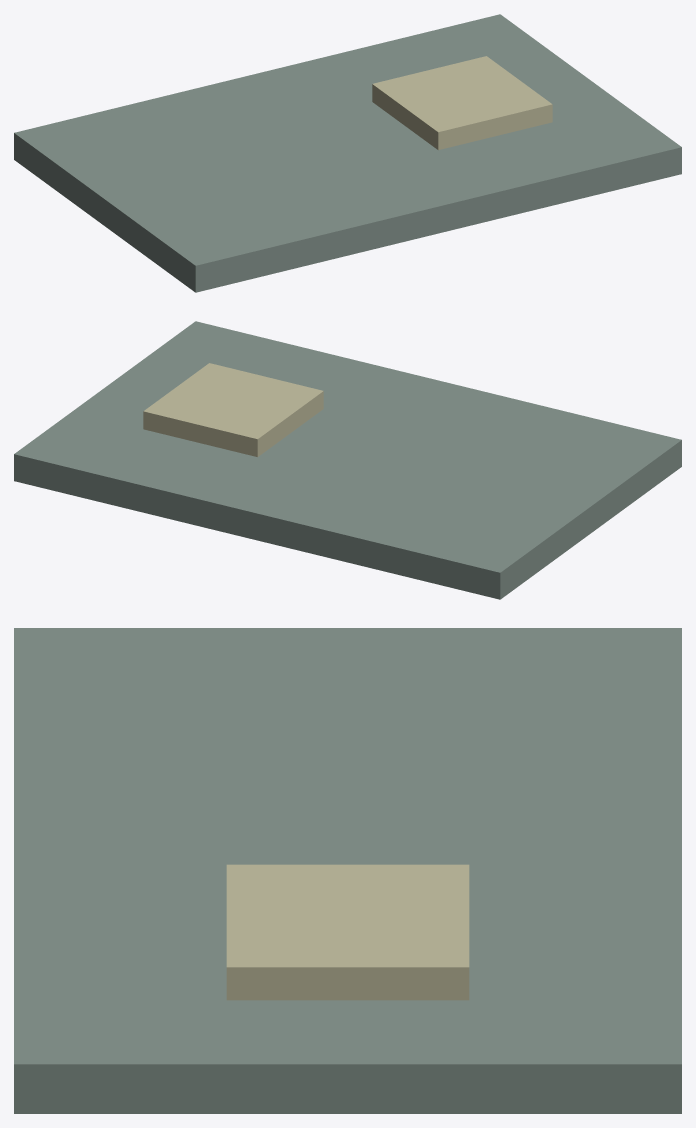
File: loot_keycard.glb
3 renders of one model, top to bottom at view 1: azimuth 30°, elevation 25°; view 2: azimuth 150°, elevation 25°; view 3: azimuth 270°, elevation 25°, orthographic. The views are drawn at different scales.
Visible parts, largest first — view 1: card_0, chip_1; view 2: card_0, chip_1; view 3: card_0, chip_1.
Boxes of the visible parts, x1,y1,x2,y2 form: card_0: (14, 14, 681, 292); chip_1: (372, 56, 552, 150); card_0: (14, 321, 681, 599); chip_1: (143, 363, 323, 457); card_0: (14, 628, 681, 1113); chip_1: (226, 864, 469, 1000).
Bounding box in the file's own units: 0.34 × 0.03 × 0.22.
